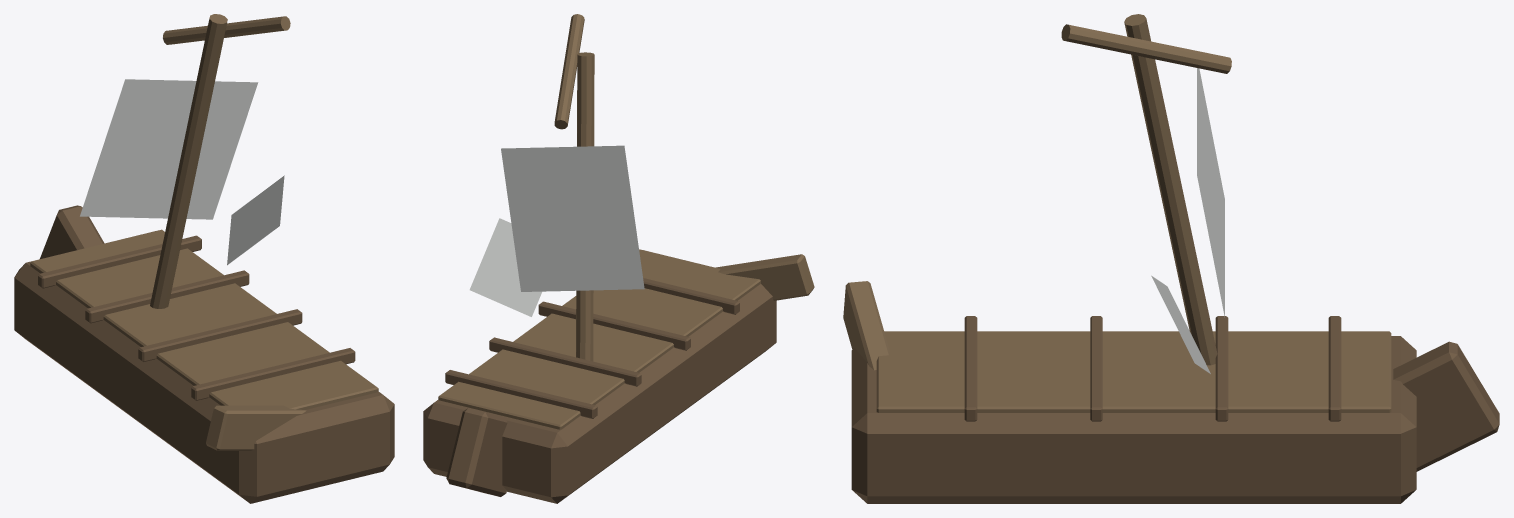
Rendered from hero_shipwreck.glb.
3 views of the same model, side by side, from view 1: azimuth 30°, elevation 25°; view 2: azimuth 150°, elevation 25°; view 3: azimuth 270°, elevation 25° (orthographic). The views are drawn at different scales.
Visible parts, largest first — view 1: HeroShipwreck, Cloth_Sail, Cloth_Torn; view 2: HeroShipwreck, Cloth_Sail, Cloth_Torn; view 3: HeroShipwreck, Cloth_Sail, Cloth_Torn.
Boxes of the visible parts, x1,y1,x2,y2 form: HeroShipwreck: [14, 14, 394, 503]; Cloth_Sail: [80, 79, 258, 219]; Cloth_Torn: [227, 175, 284, 265]; HeroShipwreck: [423, 14, 814, 503]; Cloth_Sail: [501, 145, 644, 291]; Cloth_Torn: [469, 218, 541, 316]; HeroShipwreck: [843, 14, 1499, 503]; Cloth_Sail: [1197, 68, 1224, 317]; Cloth_Torn: [1151, 275, 1210, 373].
Size of the model in its own units: 4.81 by 8.36 by 10.46.
